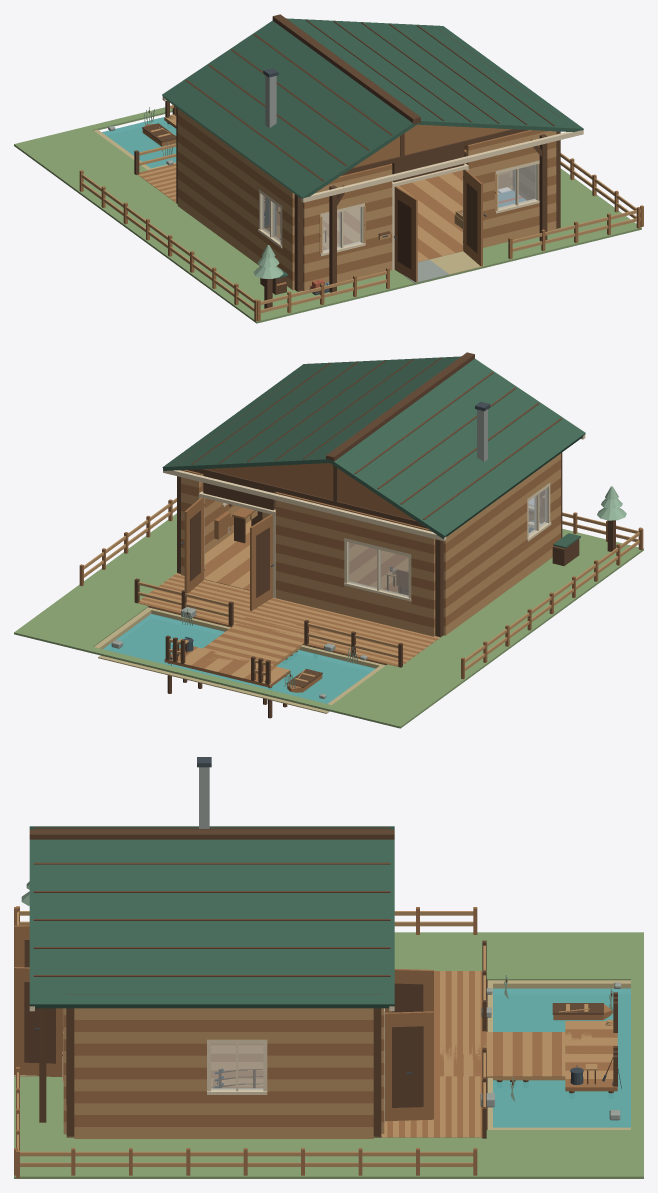
Rendered from LakesideCabinHouse.fbx.
3 renders of one model, top to bottom at view 1: azimuth 30°, elevation 25°; view 2: azimuth 150°, elevation 25°; view 3: azimuth 270°, elevation 25°, orthographic. The views are drawn at different scales.
Visible parts, largest first — view 1: Roof_Left, Roof_Right, Yard_Ground_Front, Yard_Ground_BankLeft_Outer, Yard_Ground_DeckFlankLeft, Roof_Fascia_Front, Roof_RidgeCap, Gable_Front_InfillR, Lake_Water_Surface, Window_FrontR_Pane, Door_Front_Leaf_Left, Window_FrontL_Pane (+37 smaller); view 2: Roof_Left, Roof_Right, Yard_Ground_Front, Lake_Water_Surface, Yard_Ground_BankLeft_Outer, Yard_Ground_BankRight_Outer, Gable_Rear_InfillR, Window_Rear_Pane, Yard_Ground_DeckFlankRight, Yard_Ground_DeckFlankLeft, Roof_Fascia_Rear, Roof_RidgeCap (+55 smaller); view 3: Roof_Right, Yard_Ground_Front, Lake_Water_Surface, Yard_Ground_BankRight_Outer, Yard_Ground_BankLeft_Outer, Roof_RidgeCap, Yard_Ground_DeckFlankRight, Yard_Ground_DeckFlankLeft, Door_Rear_Leaf_Right, Door_Rear_Leaf_Right_Panel, Fence_Outer_R_Rail_16, Window_SideR_Pane (+55 smaller).
Boxes of the visible parts, x1,y1,x2,y2 form: Roof_Left: [162, 20, 417, 198]; Roof_Right: [286, 18, 583, 132]; Yard_Ground_Front: [115, 168, 641, 323]; Yard_Ground_BankLeft_Outer: [14, 129, 134, 190]; Yard_Ground_DeckFlankLeft: [75, 174, 175, 219]; Roof_Fascia_Front: [301, 130, 583, 202]; Roof_RidgeCap: [272, 14, 420, 124]; Gable_Front_InfillR: [404, 124, 510, 154]; Lake_Water_Surface: [102, 117, 176, 168]; Window_FrontR_Pane: [498, 164, 536, 208]; Door_Front_Leaf_Left: [394, 186, 417, 282]; Window_FrontL_Pane: [323, 207, 361, 251]; Roof_Left: [329, 359, 585, 538]; Roof_Right: [162, 356, 460, 470]; Yard_Ground_Front: [116, 513, 643, 653]; Lake_Water_Surface: [103, 613, 375, 703]; Yard_Ground_BankLeft_Outer: [339, 667, 461, 728]; Yard_Ground_BankRight_Outer: [14, 587, 135, 648]; Gable_Rear_InfillR: [205, 463, 333, 500]; Window_Rear_Pane: [348, 542, 408, 596]; Yard_Ground_DeckFlankRight: [75, 558, 176, 601]; Yard_Ground_DeckFlankLeft: [402, 637, 501, 683]; Roof_Fascia_Rear: [163, 469, 446, 541]; Roof_RidgeCap: [326, 352, 474, 461]; Roof_Right: [29, 839, 394, 1008]; Yard_Ground_Front: [14, 1076, 381, 1178]; Lake_Water_Surface: [493, 988, 630, 1127]; Yard_Ground_BankRight_Outer: [485, 1137, 643, 1178]; Yard_Ground_BankLeft_Outer: [485, 932, 643, 971]; Roof_RidgeCap: [29, 829, 394, 839]; Yard_Ground_DeckFlankRight: [381, 1137, 485, 1178]; Yard_Ground_DeckFlankLeft: [394, 932, 485, 970]; Door_Rear_Leaf_Right: [385, 1011, 433, 1121]; Door_Rear_Leaf_Right_Panel: [392, 1026, 423, 1107]; Fence_Outer_R_Rail_16: [20, 1151, 473, 1156]; Window_SideR_Pane: [211, 1043, 263, 1089].
Bounding box in the file's own units: 44.3 × 22.95 × 48.
